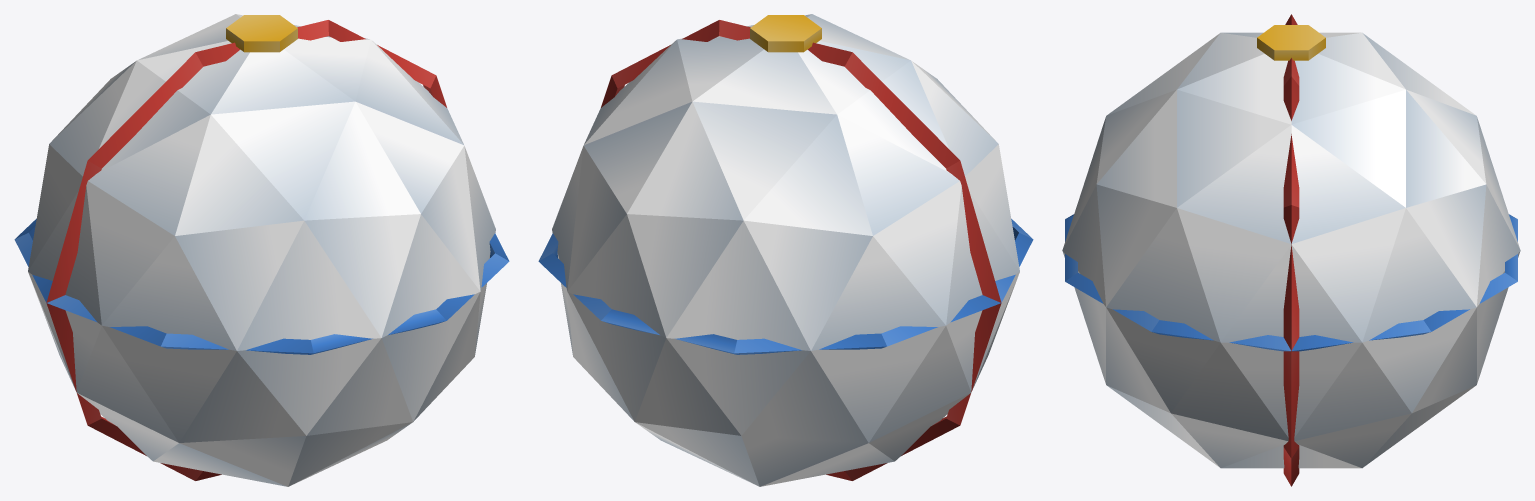
Rendered from dt_beach_ball.fbx.
3 renders of one model, left to right at view 1: azimuth 30°, elevation 25°; view 2: azimuth 150°, elevation 25°; view 3: azimuth 270°, elevation 25°, orthographic. The views are drawn at different scales.
Visible parts, largest first — view 1: dt_beach_ball; view 2: dt_beach_ball; view 3: dt_beach_ball.
Part boxes in pixels (<box>): dt_beach_ball: <box>14,14,509,486</box>; dt_beach_ball: <box>538,14,1033,486</box>; dt_beach_ball: <box>1062,14,1520,486</box>.
Bounding box in the file's own units: 200 × 195 × 192.
